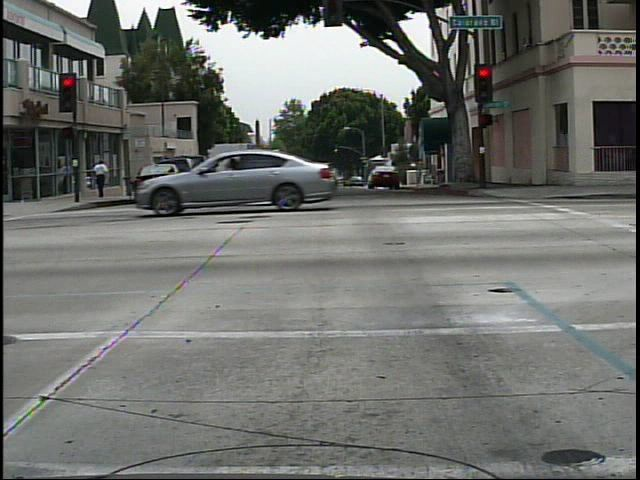person: (464, 141, 493, 195), (87, 151, 115, 202)
